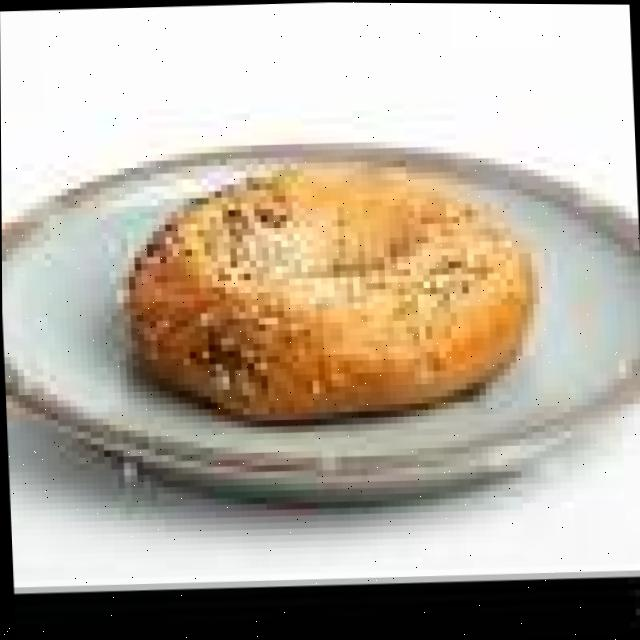Bagel: (127, 166, 531, 418)
